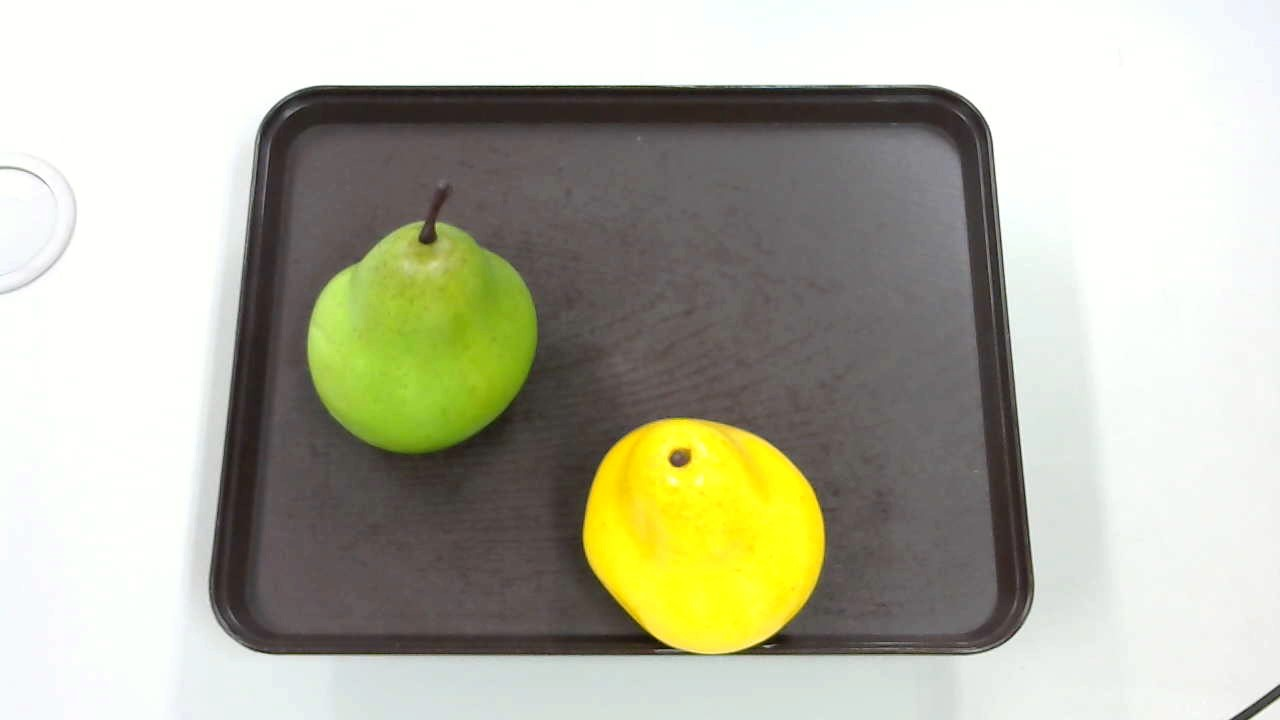green pear: (300, 181, 545, 451)
yellow pear: (577, 414, 828, 655)
